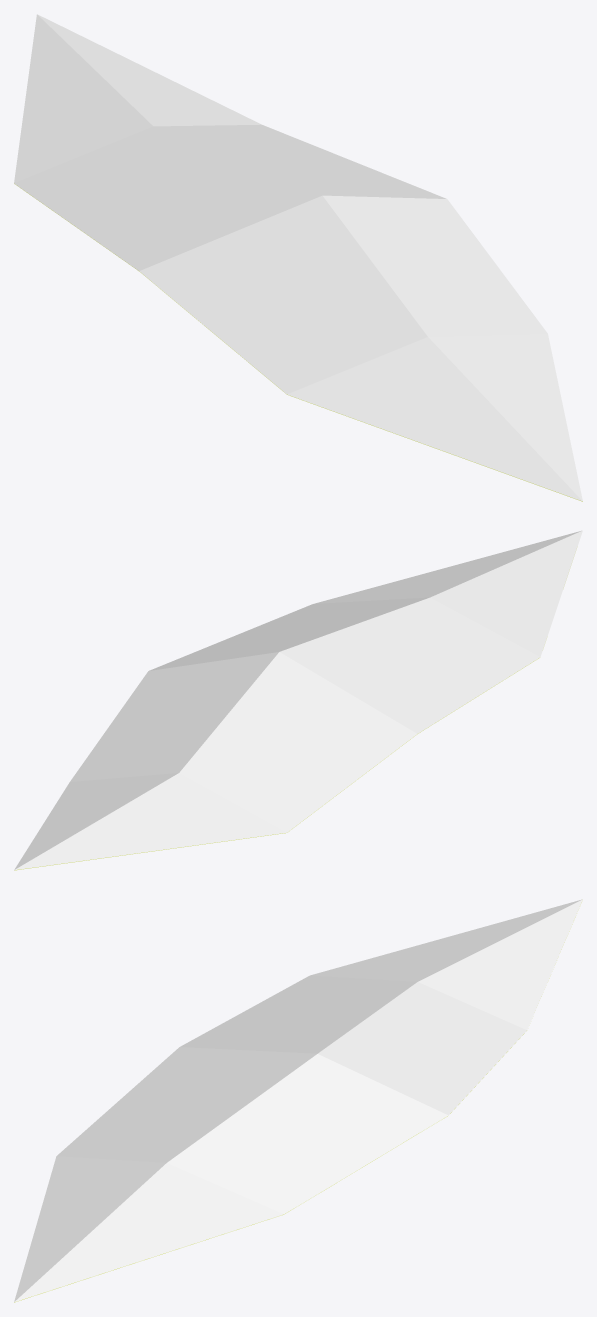
Rendered from Palm_Leave_TwoSided_Snow_04.fbx.
The picture shows the model from 3 angles, top to bottom: view 1: azimuth 30°, elevation 25°; view 2: azimuth 150°, elevation 25°; view 3: azimuth 330°, elevation 25°; orthographic projection. The views are drawn at different scales.
Parts seen in each view (by area): view 1: Palm_Leave_TwoSided_Snow_04; view 2: Palm_Leave_TwoSided_Snow_04; view 3: Palm_Leave_TwoSided_Snow_04.
Part boxes in pixels (left/top/right/bottom): Palm_Leave_TwoSided_Snow_04: left=14, top=14, right=582, bottom=501; Palm_Leave_TwoSided_Snow_04: left=14, top=530, right=582, bottom=870; Palm_Leave_TwoSided_Snow_04: left=14, top=899, right=582, bottom=1302.
Size of the model in its own units: 89.34 by 20.25 by 301.
